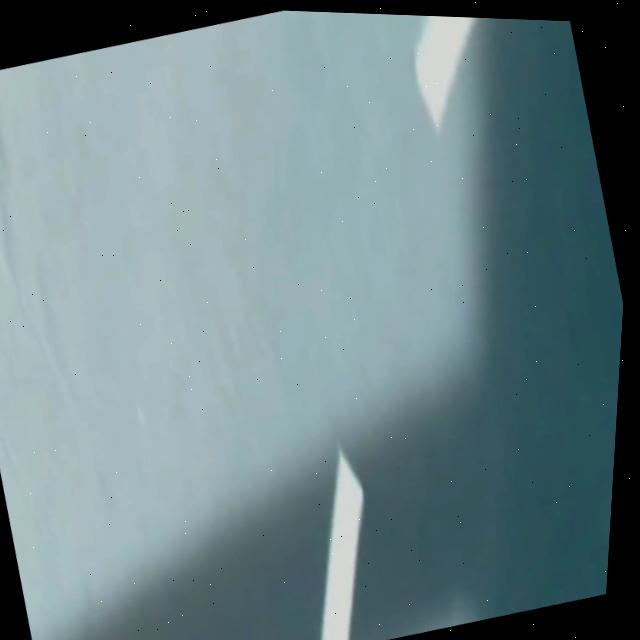center: (323, 449, 363, 640), (414, 16, 474, 130)
